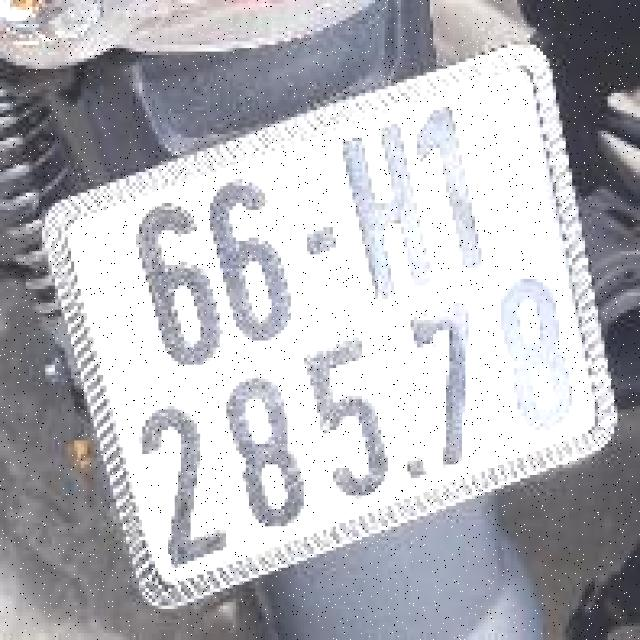1: (405, 85, 514, 283)
2: (125, 397, 247, 580)
5: (292, 322, 409, 509)
6: (119, 188, 237, 382), (196, 165, 308, 357)
7: (388, 290, 504, 484)
8: (483, 257, 591, 446), (215, 362, 329, 541)
H: (324, 101, 443, 315)
